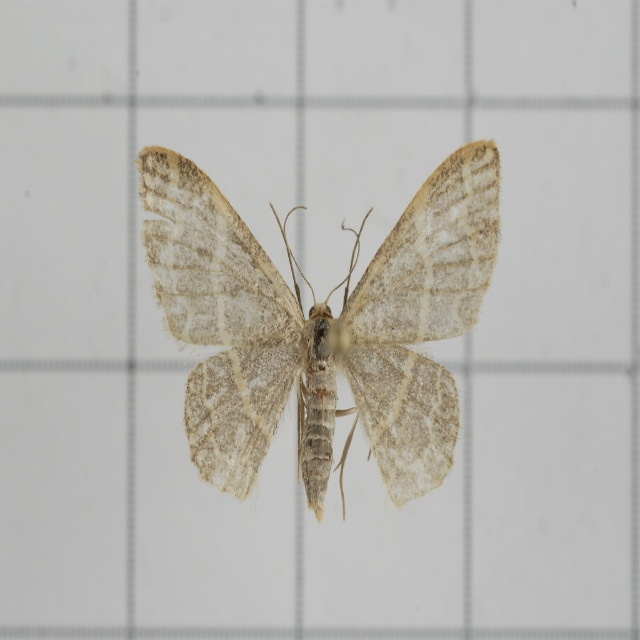Butterfly: (126, 137, 507, 526)
